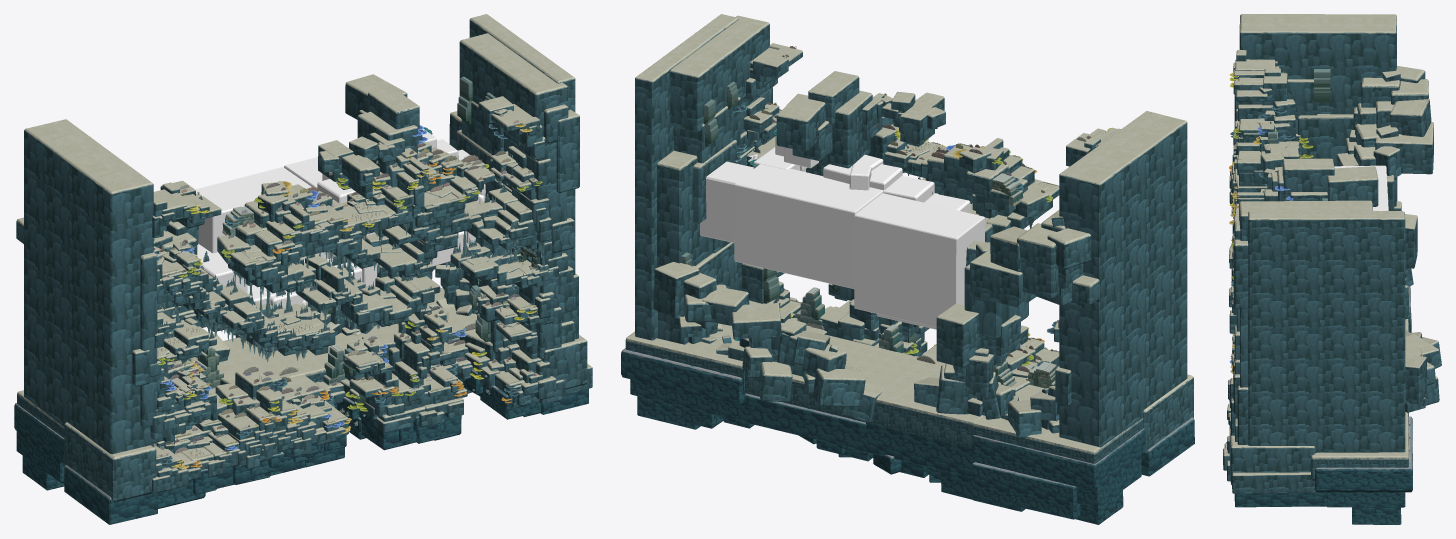
3 renders of one model, left to right at view 1: azimuth 30°, elevation 25°; view 2: azimuth 150°, elevation 25°; view 3: azimuth 270°, elevation 25°, orthographic. The views are drawn at different scales.
Size of the model in its own units: 149 by 103 by 65.84.
23 materials, 22 textured.
